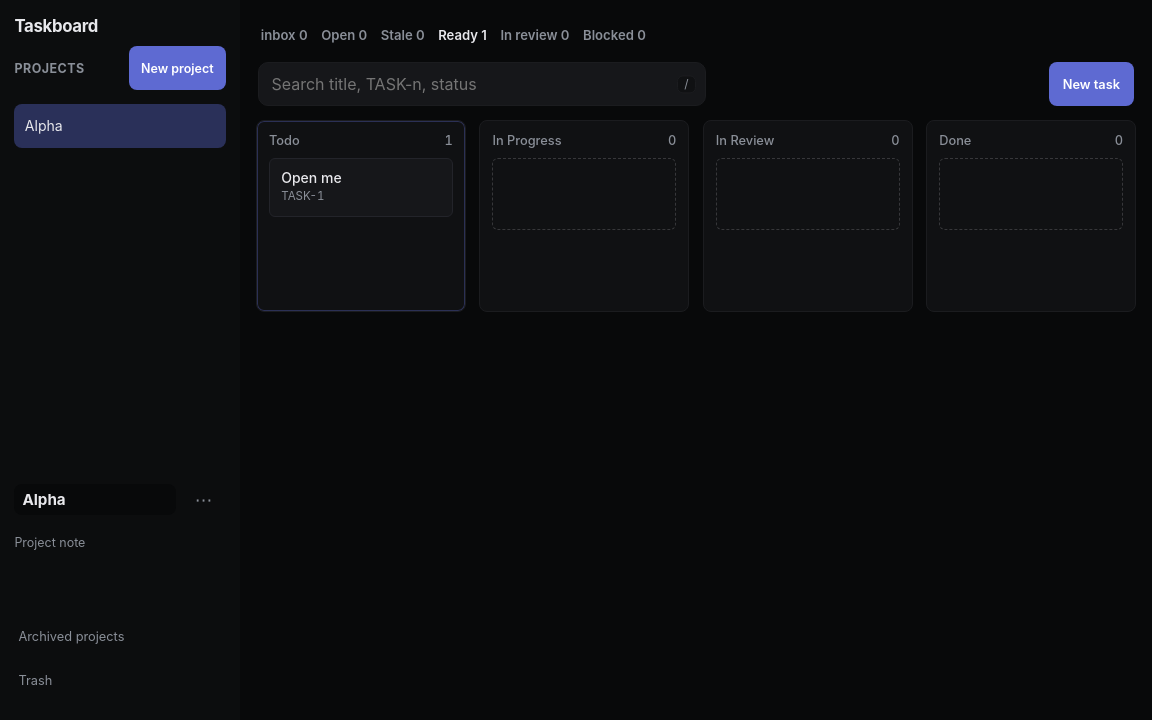
Test: design-review regressions › does not render a full-board dismiss backdrop while a card is open
Click the list item "Open me TASK-1".
click(361, 188)  # box left=269, top=158, right=453, bottom=217
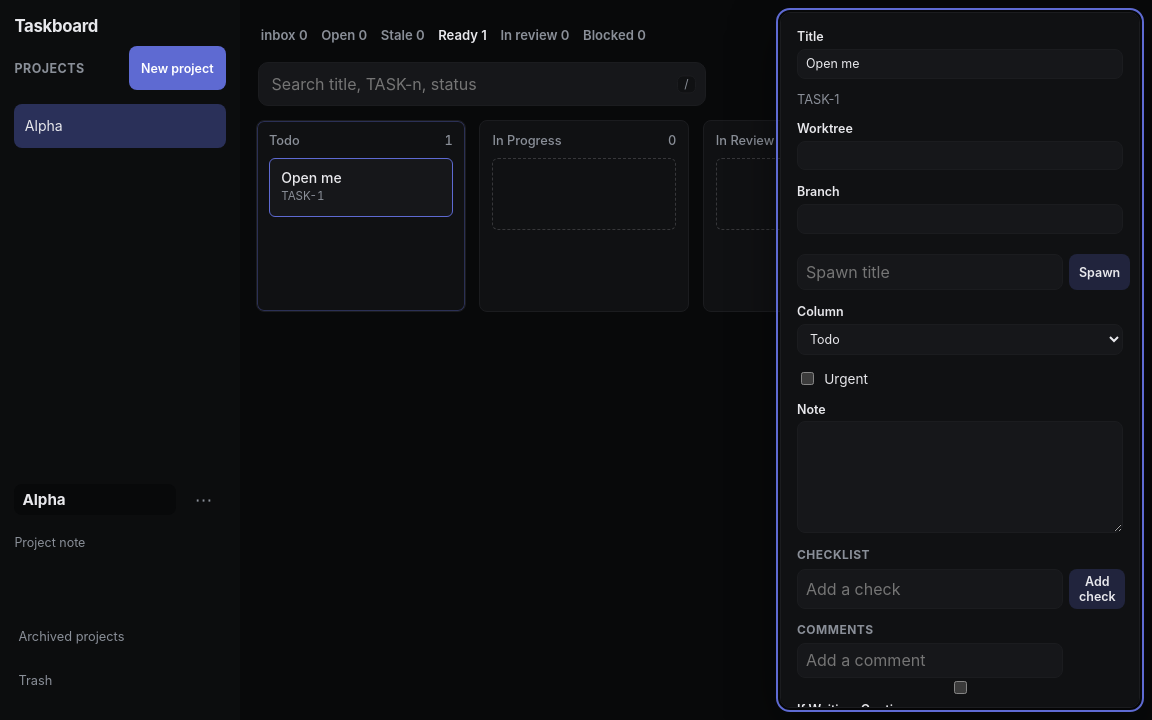
expect the list named "Todo" is shown: met, box left=269, top=158, right=453, bottom=230
expect the field labelled "Title" is shown: met, box left=797, top=49, right=1123, bottom=79
